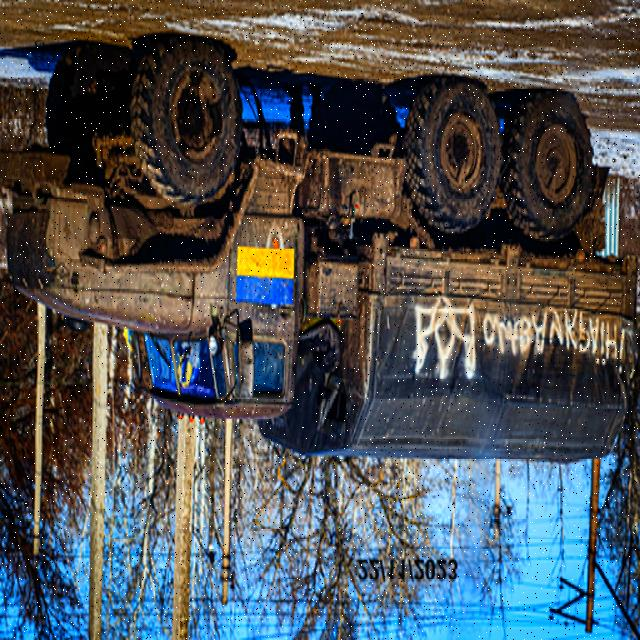TRUCK: (0, 29, 634, 489)
